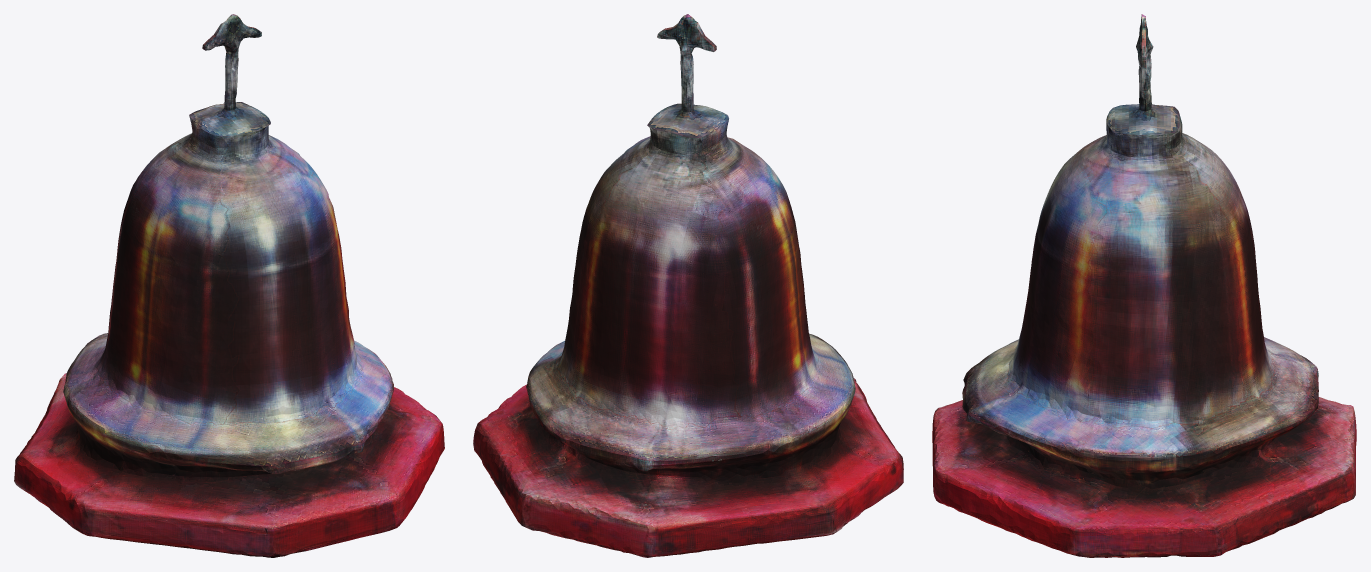
The model's file is a large metal bell on a red wooden stand.glb.
3 views of the same model, side by side, from view 1: azimuth 30°, elevation 25°; view 2: azimuth 150°, elevation 25°; view 3: azimuth 270°, elevation 25° (orthographic).
Size of the model in its own units: 0.8196 by 0.9877 by 0.8183.
Materials: 1 (1 with a texture image).
